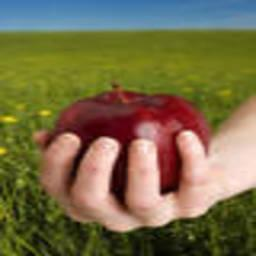apple: (53, 87, 209, 192)
